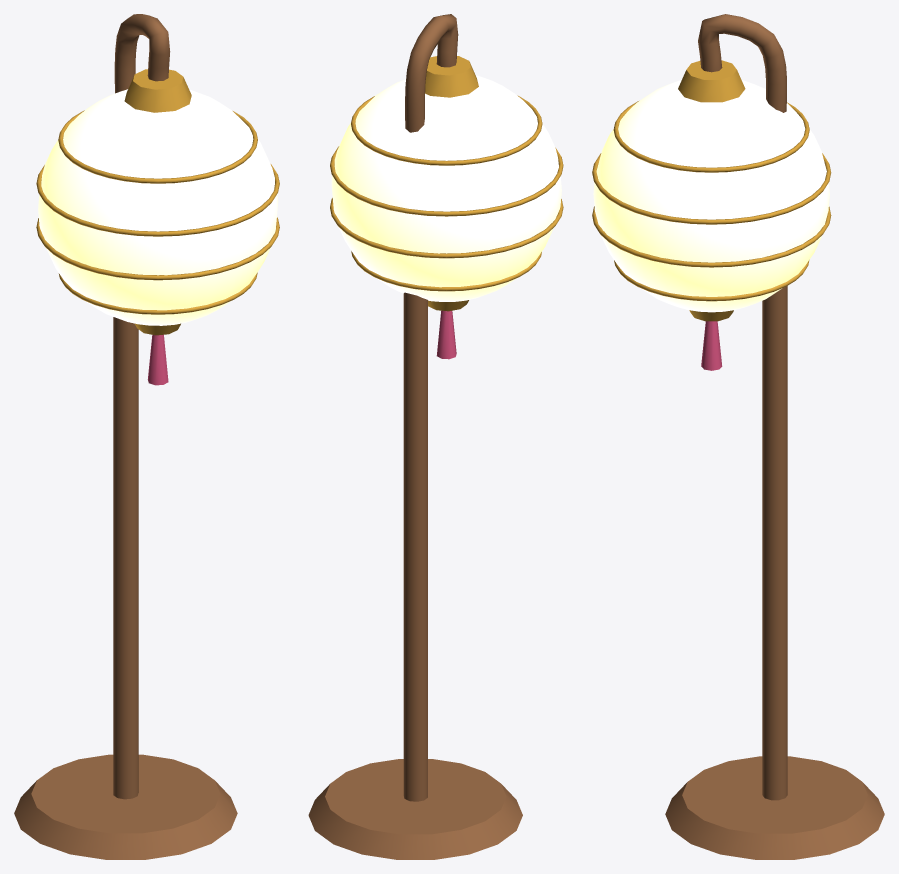
The model's file is lamp-lantern.glb.
The picture shows the model from 3 angles, left to right: view 1: azimuth 30°, elevation 25°; view 2: azimuth 150°, elevation 25°; view 3: azimuth 270°, elevation 25°; orthographic projection. The views are drawn at different scales.
Bounding box in the file's own units: 0.5662 × 2.09 × 0.6931.
